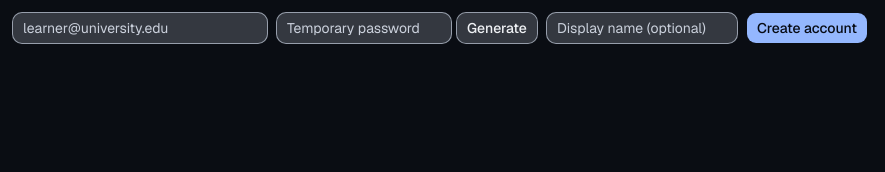
Test: CreateAccountForm › rejects a password shorter than 8 characters
Type "learner@uni.edu.qa" into the field named "Account email".
click(140, 28); type("learner@uni.edu.qa")  # box [12, 12, 268, 44]
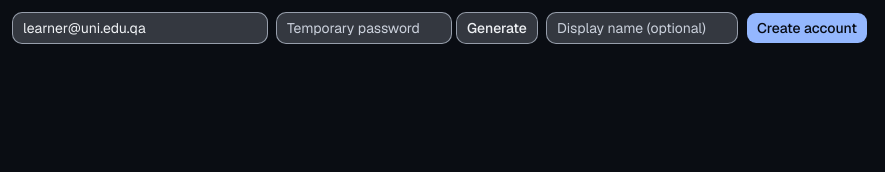
Type "short1" into the field labelled "Temporary password".
click(364, 28); type("short1")  # box [276, 12, 452, 44]
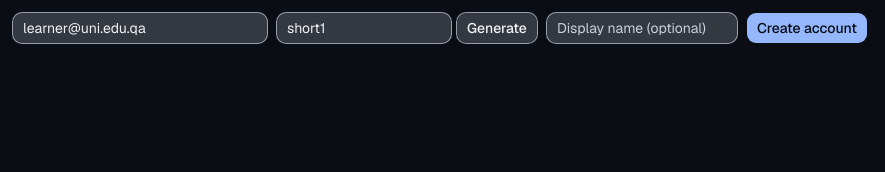
Click the button "Create account".
click(807, 28)  # box [746, 12, 868, 44]
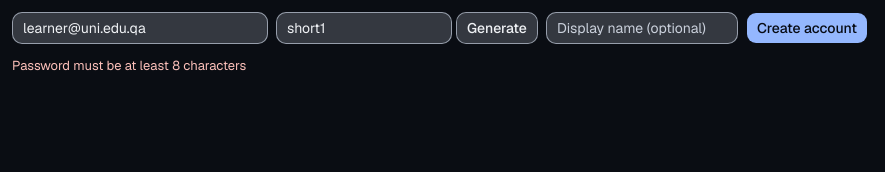
expect the text "Password must be at least 8 characters" is shown: met, box [12, 57, 246, 74]
